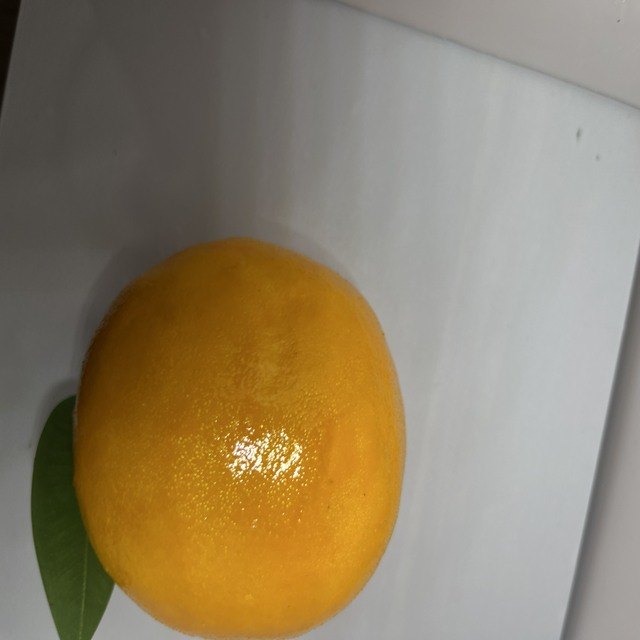Cam vang: (57, 229, 413, 640)
